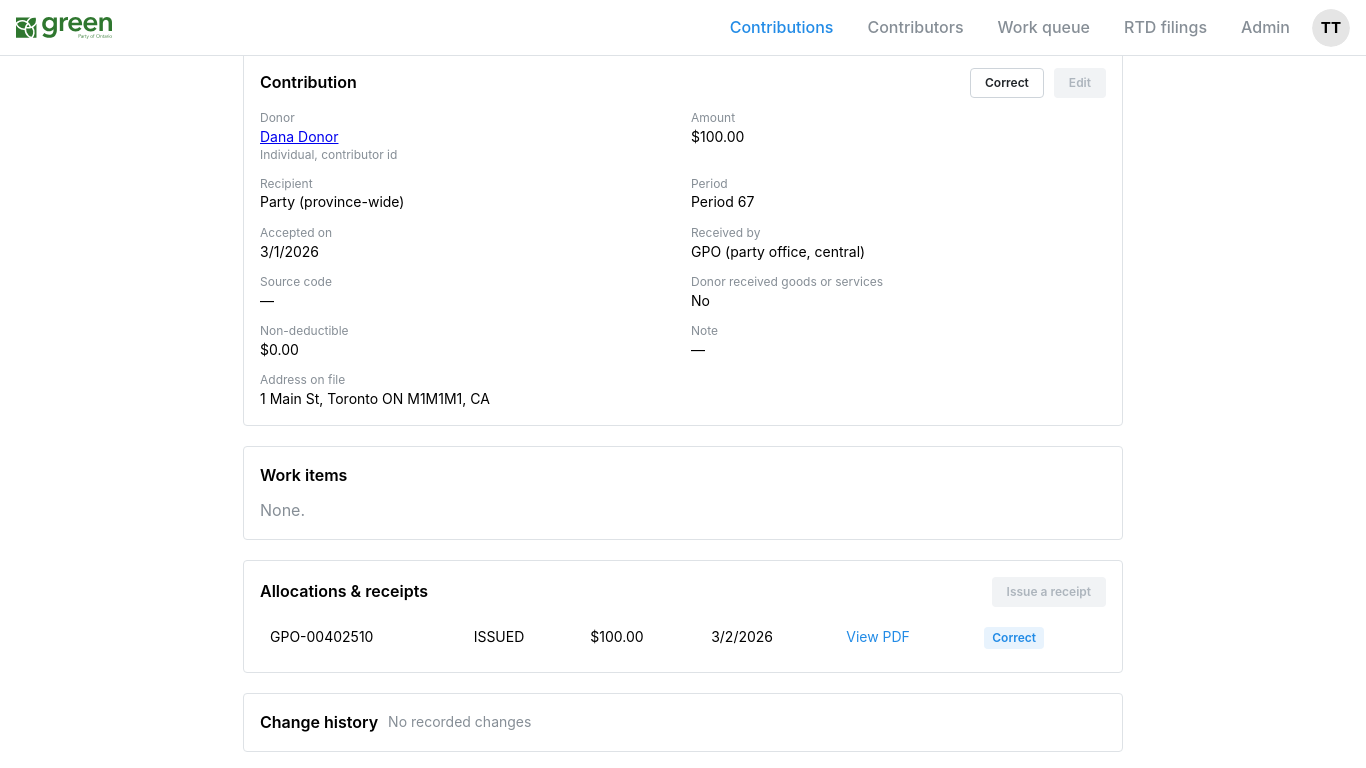
Test case: reprints a receipt as a lost copy from the receipt menu
(page scrolled)
Click the button with aria-label "Correct receipt GPO-00402510" at (1014,638), box [984, 627, 1044, 649]
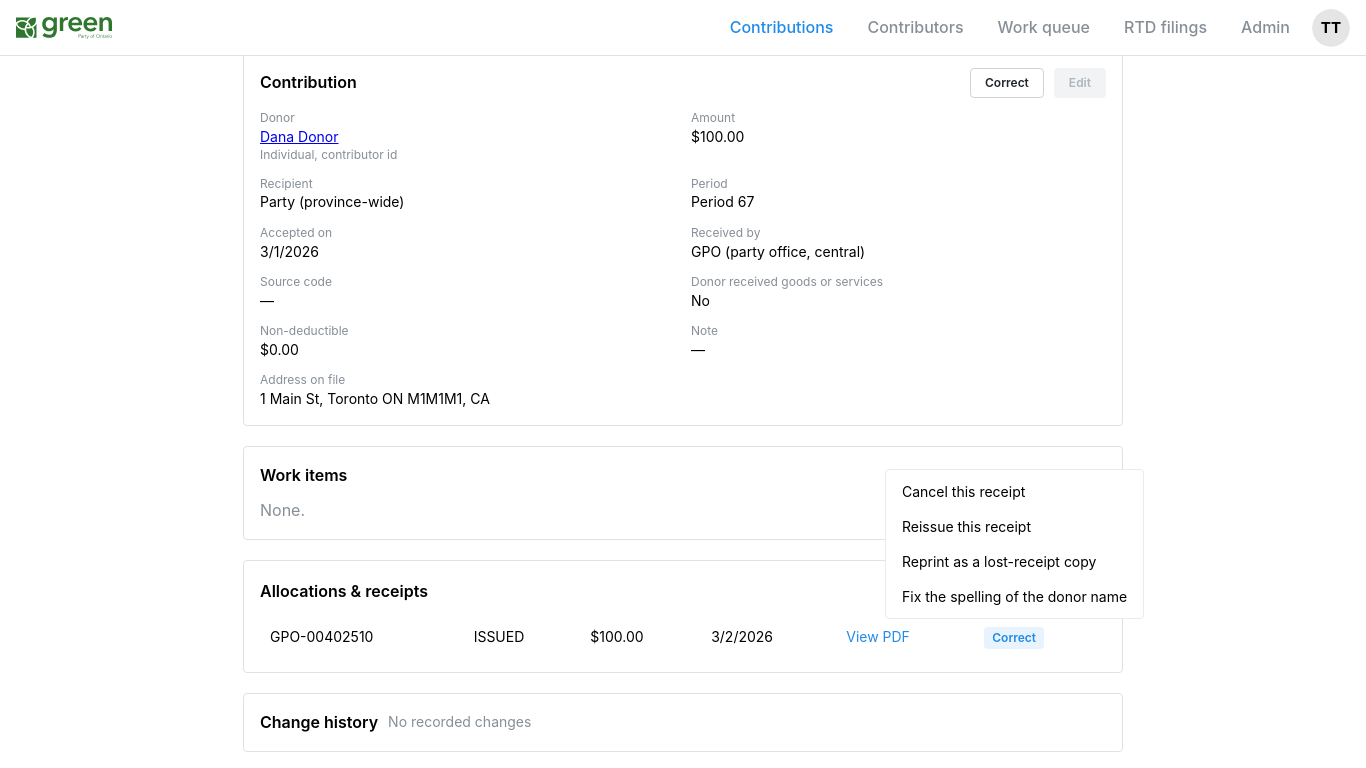
Click the menu item "Reprint as a lost-receipt copy" at (1014,561), box [890, 544, 1139, 579]
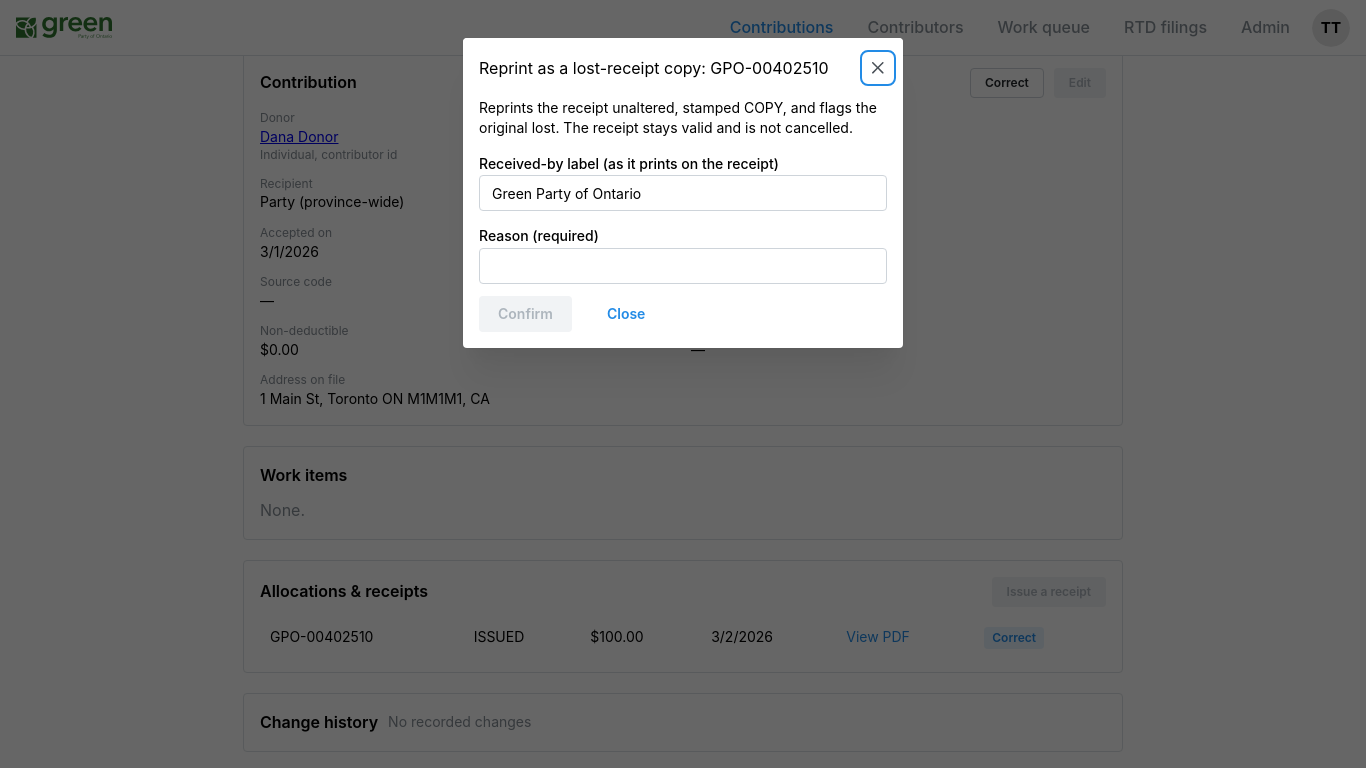
Type "donor lost it" into the field labelled "Reason (required)" at (683,267), box [479, 249, 887, 285]
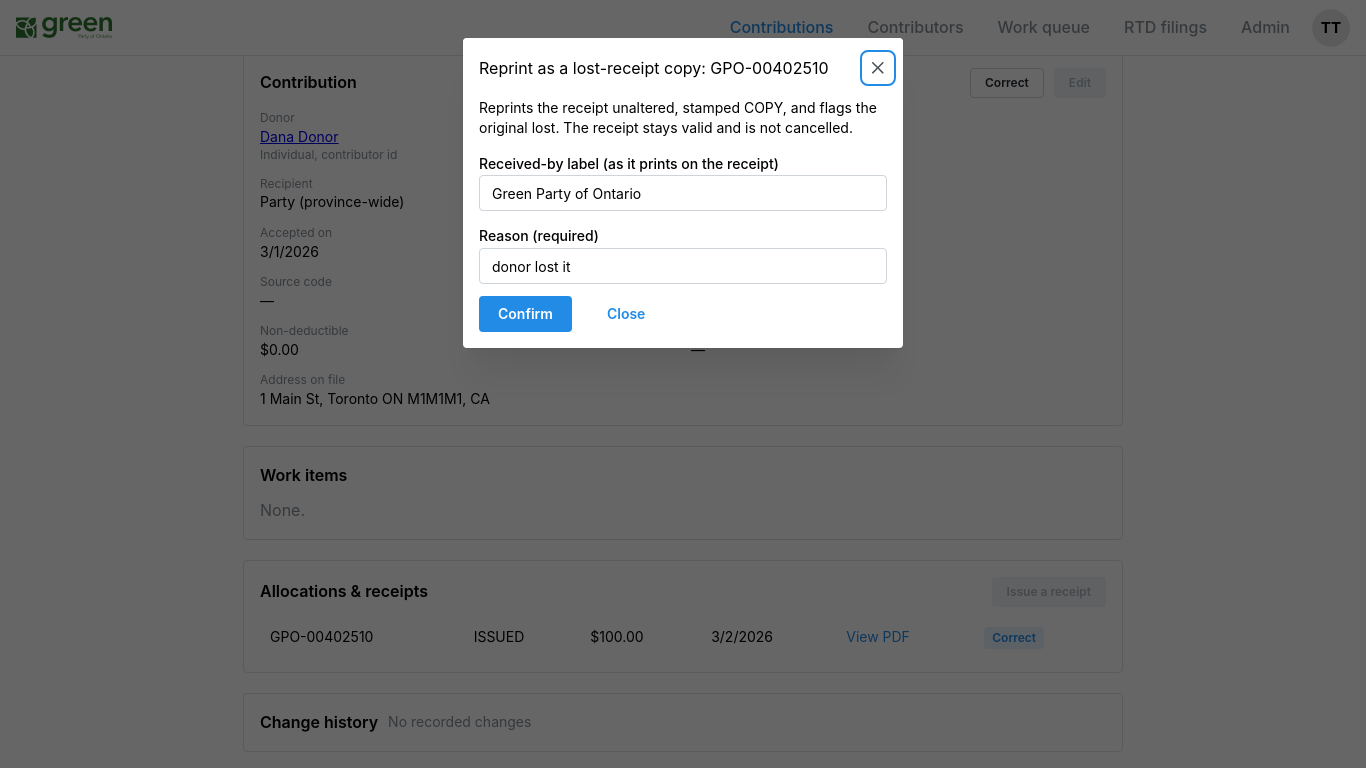
Click the button "Confirm" at (525,315), box [479, 297, 572, 333]
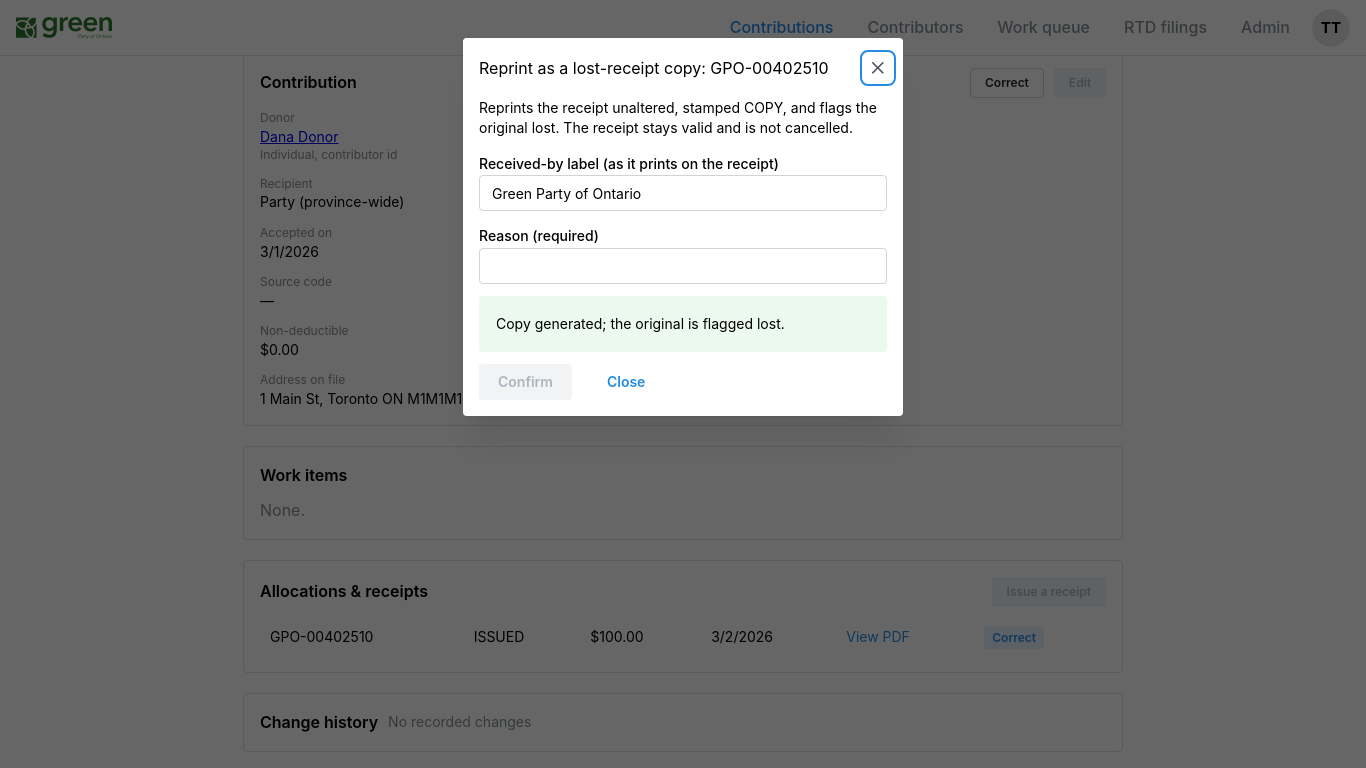
Result: the text "Copy generated; the original is flagged lost." is shown at [496, 316, 785, 333]
